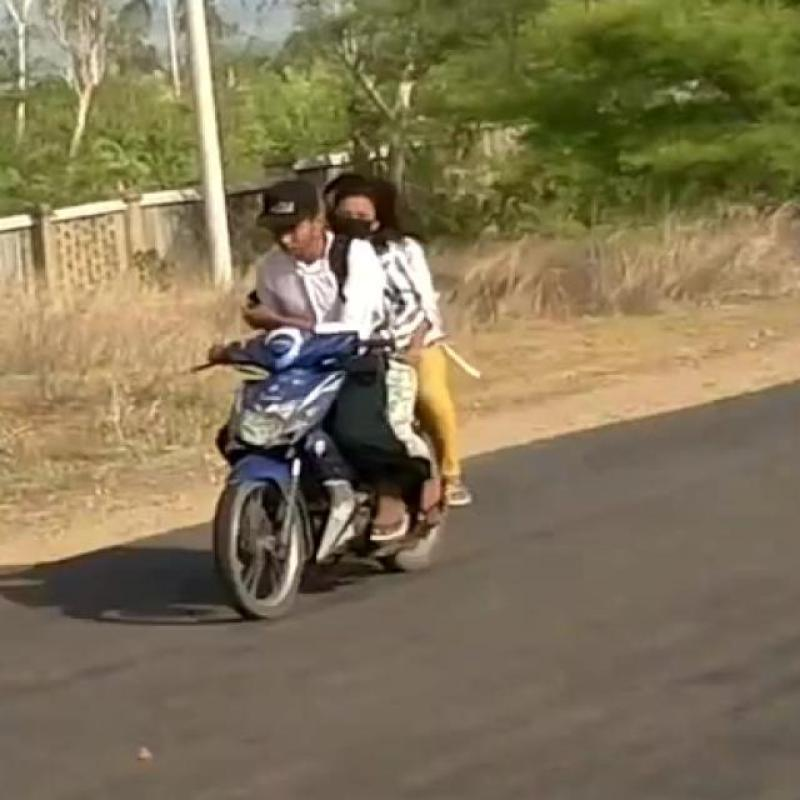nohelmet: (233, 145, 357, 279)
